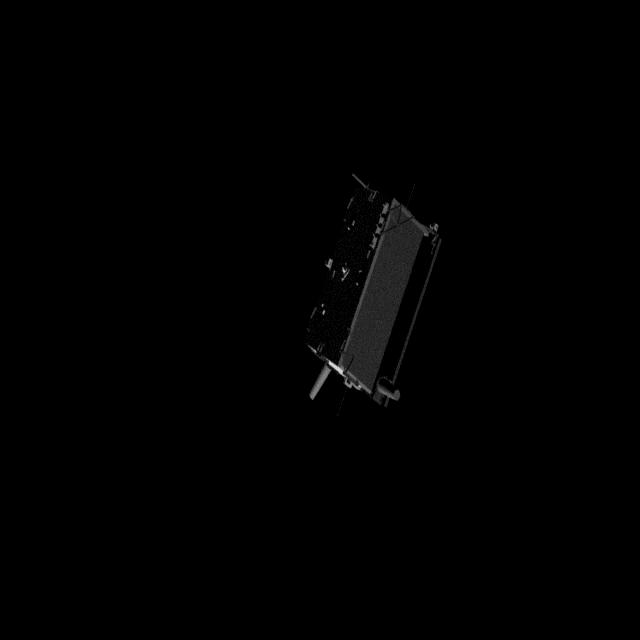satellite: (294, 172, 454, 424)
